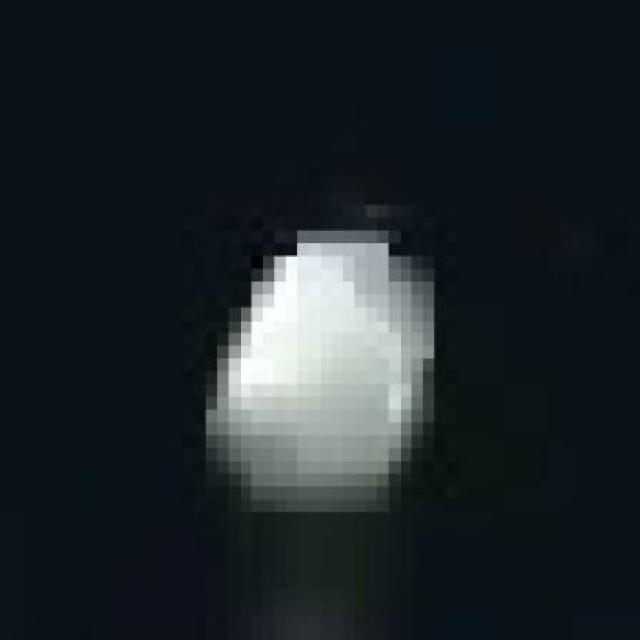Cricket ball: (203, 224, 442, 517)
